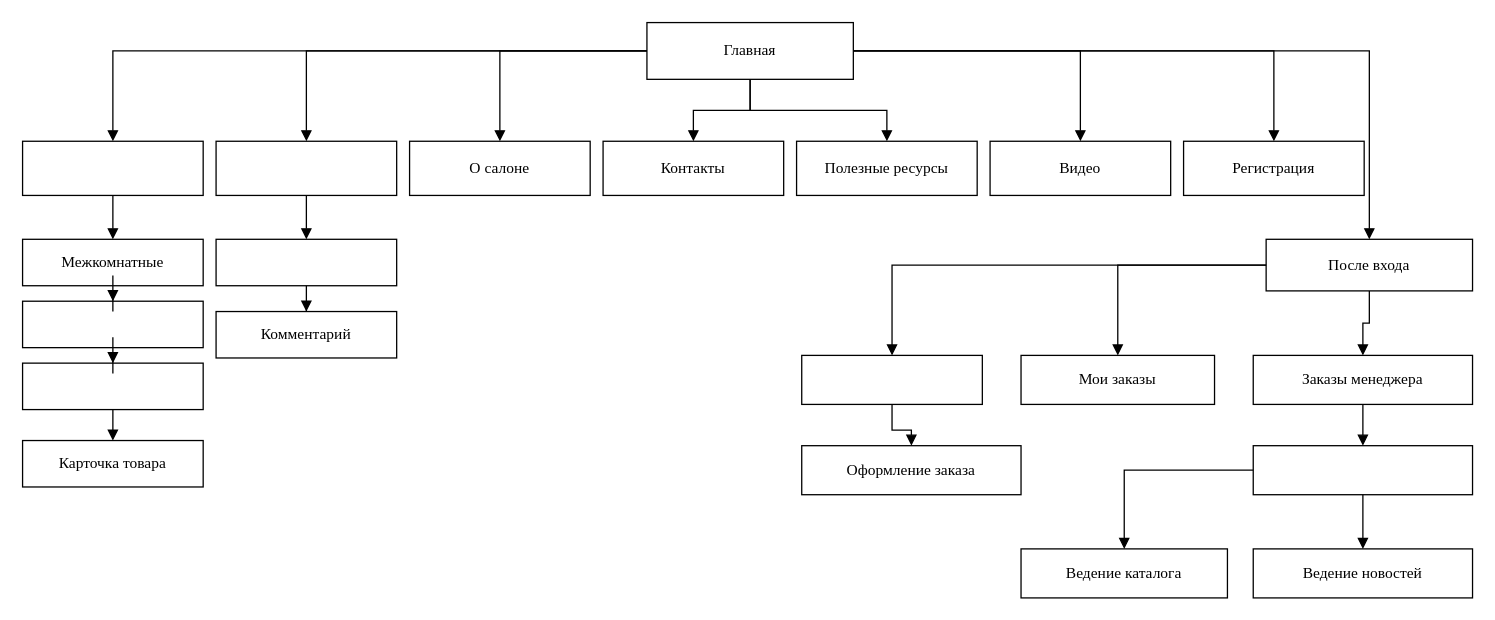
The diagram is 1495 pixels wide and 620 high, and some of its shapes have lost their labels. The shapes that lost their labels are listed below. From the top down, each one's centre as x and y in pixels, then its label:
point 112,167: Каталог
point 306,167: Новости
point 306,262: Статья
point 112,324: Входные
point 112,386: Раздвижные
point 891,379: Корзина
point 1362,469: Пользователи
